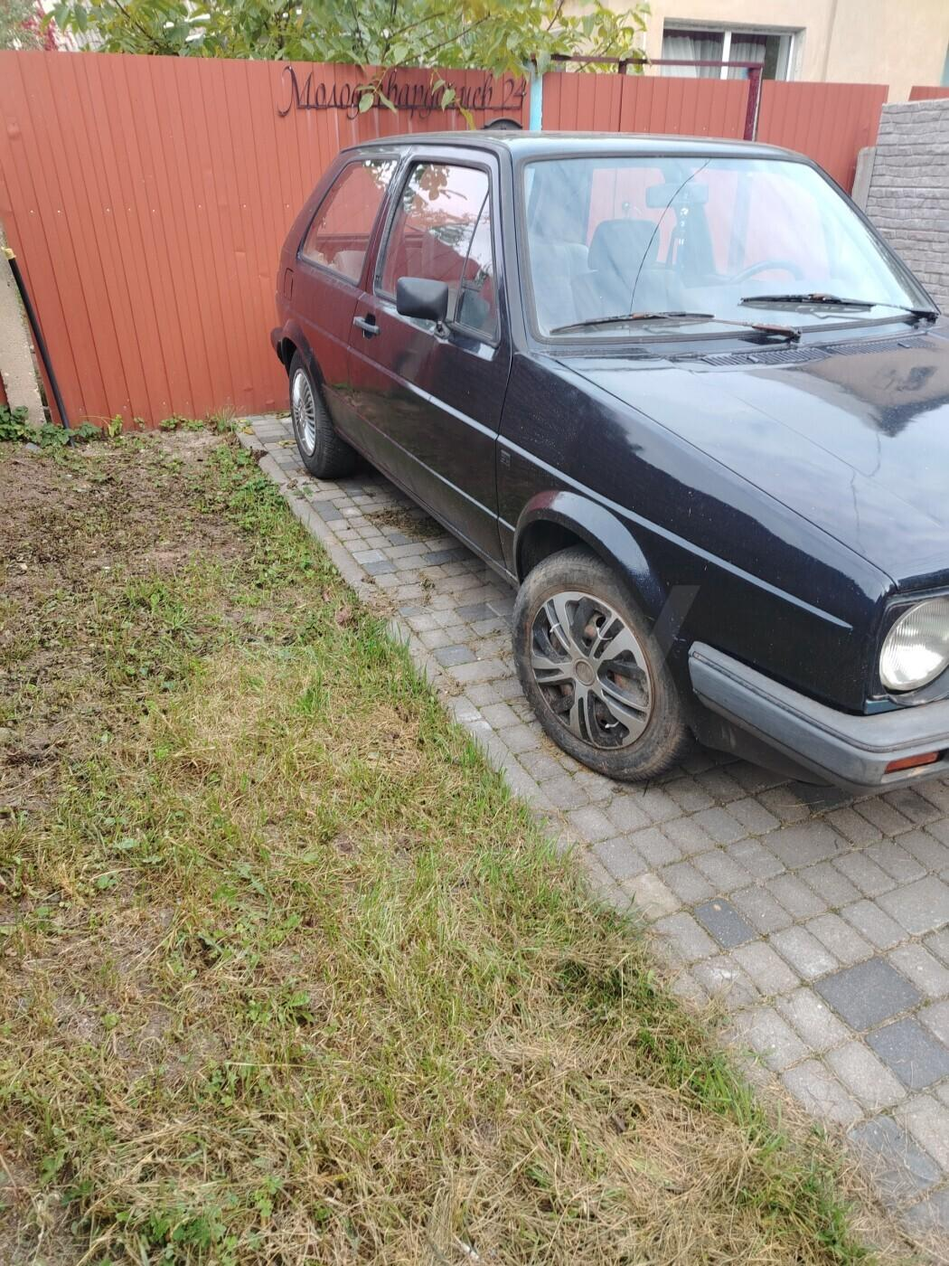Golf_1983-1992: (267, 132, 949, 790)
